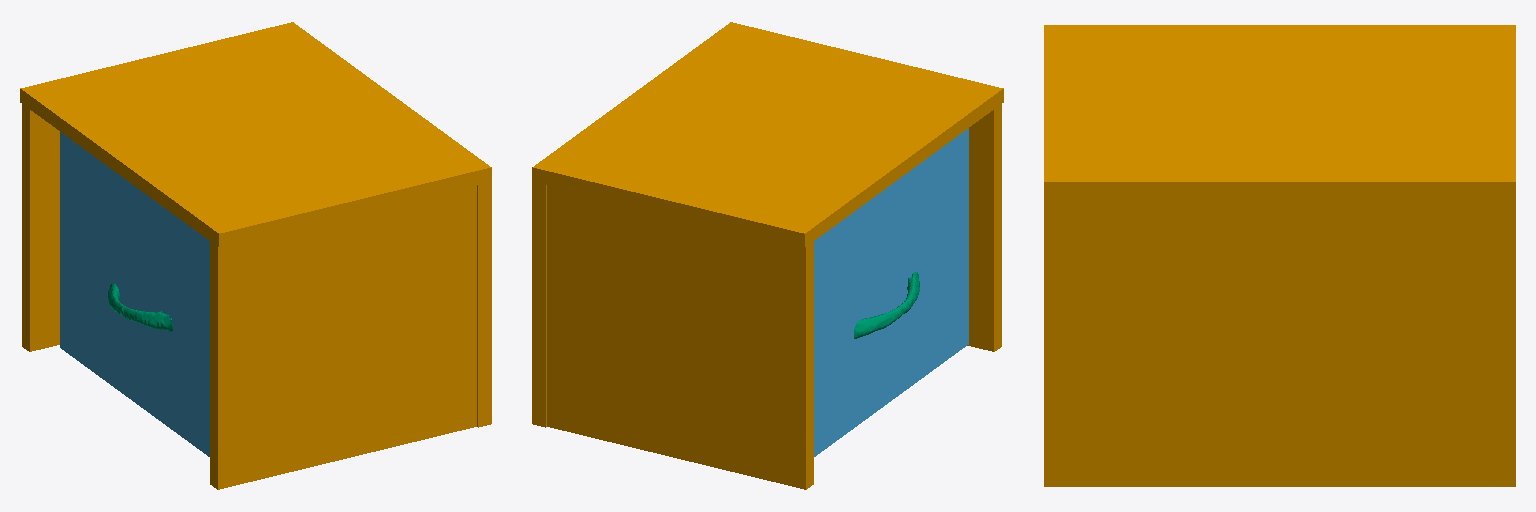
robot.urdf — drawer:
<?xml version='1.0' encoding='utf-8'?>
<robot name="drawer">
    <link name="drawer_body">
        <!-- Get Side Profiles (y-direction) -->
        <collision>
            <origin xyz="0 0.1825 0"/>
            <geometry>
                <box size="0.29 0.015 0.26"/>
            </geometry>
        </collision>
        <visual>
            <origin xyz="0 0.1825 0"/>
            <geometry>
                <box size="0.29 0.015 0.26"/>
            </geometry>
        </visual>

        <collision>
            <origin xyz="0 -0.1825 0"/>
            <geometry>
                <box size="0.29 0.015 0.26"/>
            </geometry>
        </collision>
        <visual>
            <origin xyz="0 -0.1825 0"/>
            <geometry>
                <box size="0.29 0.015 0.26"/>
            </geometry>
        </visual>

        <!-- Get Top Profile (z-direction) -->
        <collision>
            <origin xyz="0 0 0.1375"/>
            <geometry>
                <box size="0.29 0.385 0.015"/>
            </geometry>
        </collision>
        <visual>
            <origin xyz="0 0 0.1375"/>
            <geometry>
                <box size="0.29 0.385 0.015"/>
            </geometry>
        </visual>

        <!-- Get Back Profile -->
        <collision>
            <origin xyz="0.1525 0 0.0"/>
            <geometry>
                <box size="0.015 0.385 0.275"/>
            </geometry>
        </collision>
        <visual>
            <origin xyz="0.1525 0 0.0075"/>
            <geometry>
                <box size="0.015 0.385 0.275"/>
            </geometry>
        </visual>
    </link>

    <joint name="drawer_sliding_joint" type="prismatic">
        <origin rpy="0 0 0" xyz="0 0 0.00"/>
        <parent link="drawer_body"/>
        <child link="drawer_box"/>
        <axis xyz="1 0 0"/>
        <limit lower="-0.25" upper="0.0" effort="1000" velocity="0.5"/>
        <dynamics damping="0.0" friction="0.0"/>
    </joint>

    <link name="drawer_box">
        <collision>
            <origin xyz="-0.007 -0.005 0.0"/>
            <geometry>    
                <box size="0.225 0.32 0.25"/>
            </geometry>
        </collision>
        <visual>
            <origin xyz="0.0 0.0 0.015"/>
            <geometry>
                <mesh filename="drawer/drawer_box_primtitive.stl"/>
            </geometry>
        </visual>
    </link>

    <joint name="drawer_fixed_joint" type="fixed">
        <origin xyz="-0.132957 -0.003521 -0.015211"/>
        <parent link="drawer_box"/>
        <child link="drawer_handle"/>
    </joint>

    <link name="drawer_handle">
        <collision>
            <geometry>
                <mesh filename="drawer/handle_blender_realworld_2x.stl"/>
            </geometry>
            <sdf resolution="256"/>
        </collision>
        <visual>
            <geometry>
                <mesh filename="drawer/handle_blender_realworld_2x.stl"/>
            </geometry>
        </visual>
    </link>
</robot>

--- What the picture shows (computed from the rendered views, not written in the file) ---
3 views of the same robot in one strip: view 1: azimuth 30°, elevation 25°; view 2: azimuth 150°, elevation 25°; view 3: azimuth 270°, elevation 25° (orthographic).
Robot: drawer — 3 links, 2 joints (1 prismatic, 1 fixed); root link drawer_body; default pose: all joints at 0.
Links seen in each view (by area): view 1: drawer_body, drawer_box, drawer_handle; view 2: drawer_body, drawer_box, drawer_handle; view 3: drawer_body.
Boxes of the visible links, <box> form: drawer_body: <box>20,22,491,489</box>; drawer_box: <box>60,132,209,456</box>; drawer_handle: <box>108,283,172,331</box>; drawer_body: <box>532,22,1003,489</box>; drawer_box: <box>814,128,968,456</box>; drawer_handle: <box>854,272,919,338</box>; drawer_body: <box>1044,25,1515,486</box>.
Bounding box of the posed robot: 0.3057 × 0.385 × 0.275 m (x, y, z).
2 mesh visuals loaded from 2 distinct referenced files (2 binary STL).
